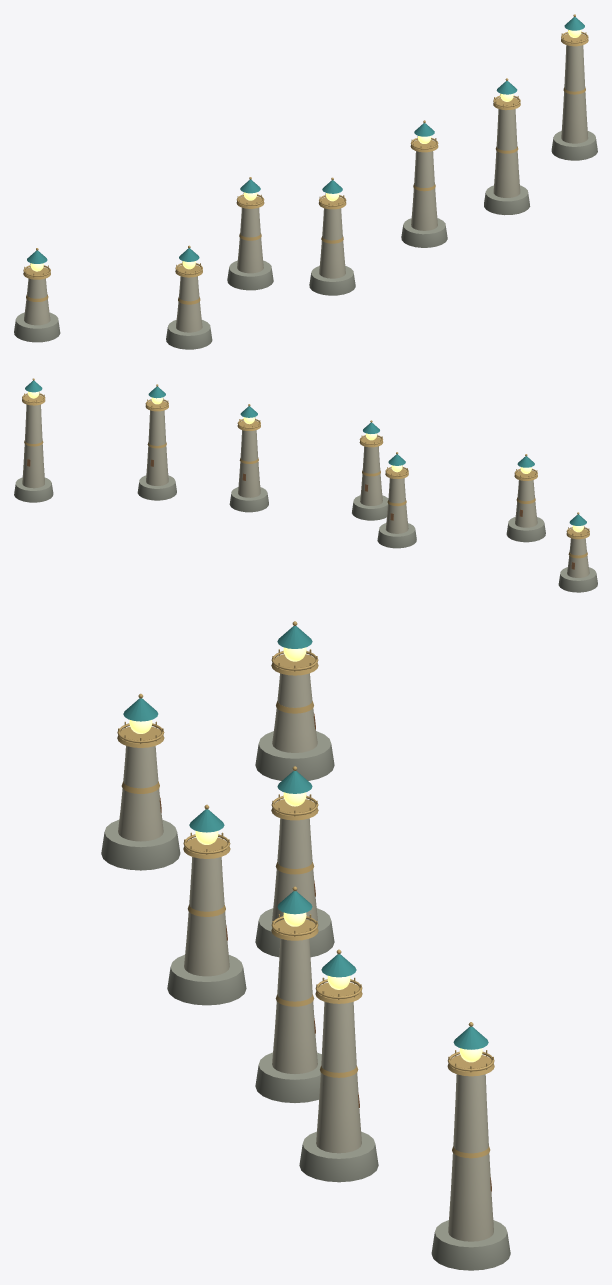
Rendered from landmark-r5-scale-lights.glb.
3 renders of one model, top to bottom at view 1: azimuth 30°, elevation 25°; view 2: azimuth 150°, elevation 25°; view 3: azimuth 270°, elevation 25°, orthographic. The views are drawn at different scales.
Parts seen in each view (by area): view 1: Static_Warm_limestone, Static_Limestone_shadow, Static_Aged_brass, Static_Teal_painted_cedar; view 2: Static_Warm_limestone, Static_Limestone_shadow, Static_Aged_brass, Static_Teal_painted_cedar; view 3: Static_Warm_limestone, Static_Limestone_shadow, Static_Aged_brass, Static_Teal_painted_cedar.
Boxes of the visible parts, x1,y1,x2,y2 form: Static_Warm_limestone: [24, 45, 588, 332]; Static_Limestone_shadow: [14, 131, 597, 349]; Static_Aged_brass: [23, 14, 588, 304]; Static_Teal_painted_cedar: [27, 17, 584, 263]; Static_Warm_limestone: [22, 404, 589, 577]; Static_Limestone_shadow: [14, 475, 597, 592]; Static_Aged_brass: [22, 378, 589, 558]; Static_Teal_painted_cedar: [25, 380, 586, 525]; Static_Warm_limestone: [118, 673, 493, 1241]; Static_Limestone_shadow: [101, 731, 510, 1270]; Static_Aged_brass: [117, 621, 494, 1158]; Static_Teal_painted_cedar: [123, 626, 488, 1049].
Size of the model in its own units: 112 by 23.22 by 37.2.
